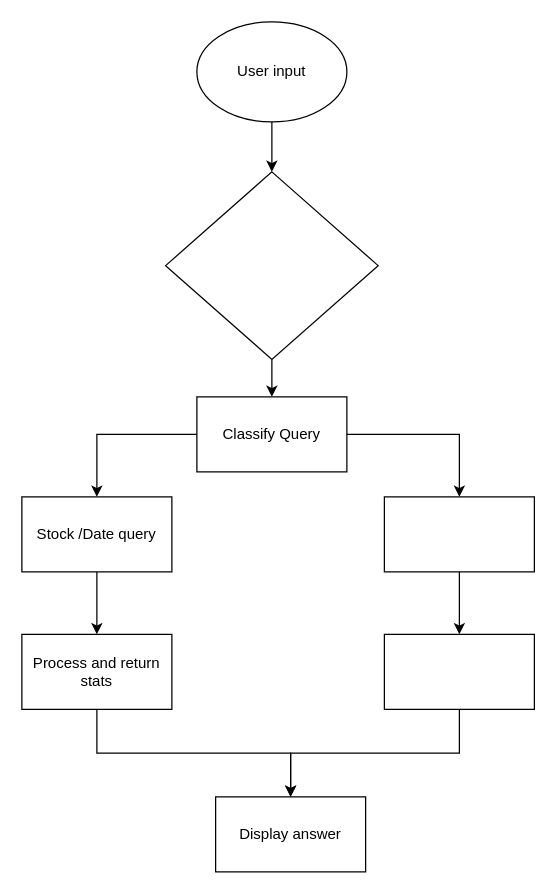
The diagram is 556 pixels wide and 894 high, and some of its shapes have lost their labels. The shapes that lost their labels are listed below. From the top down, each one's centre as x and y in pixels, then its label:
(271,265): Is Chatbot Initialized?
(458,534): Genral /Business query
(458,671): Summary answer
